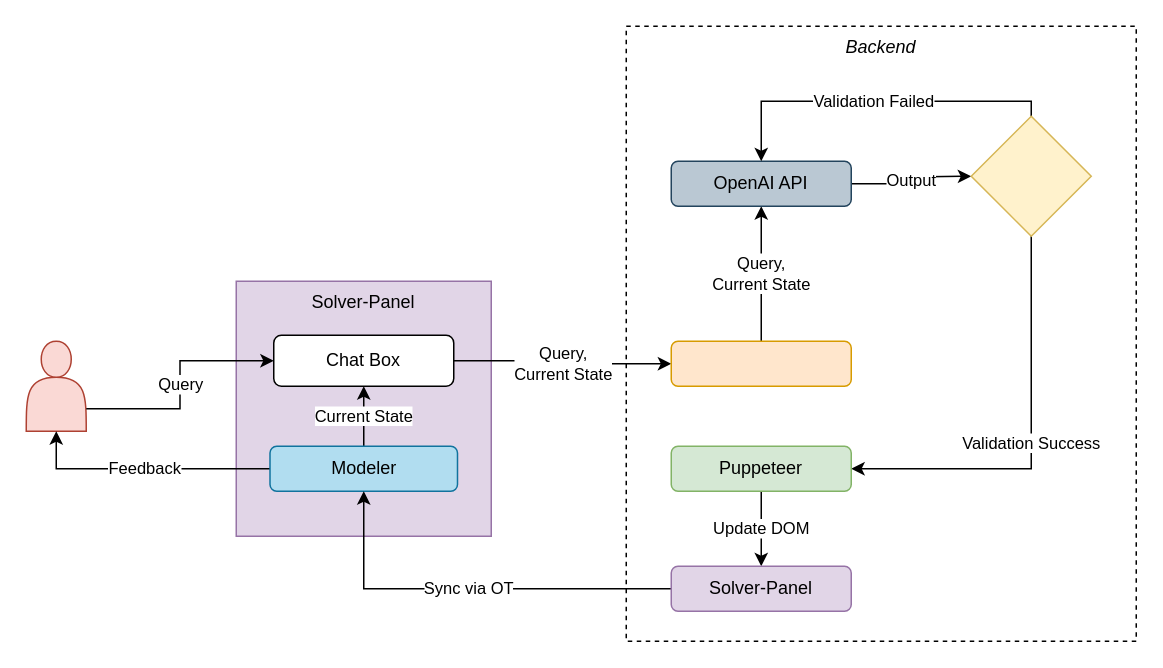
Some shapes in this 1163 by 668 pixel diagram are drawn without their labels. Each missing label, with the centre of its shape:
AI-Service: [760,363]
User: [55,385]
Validator: [1030,175]
